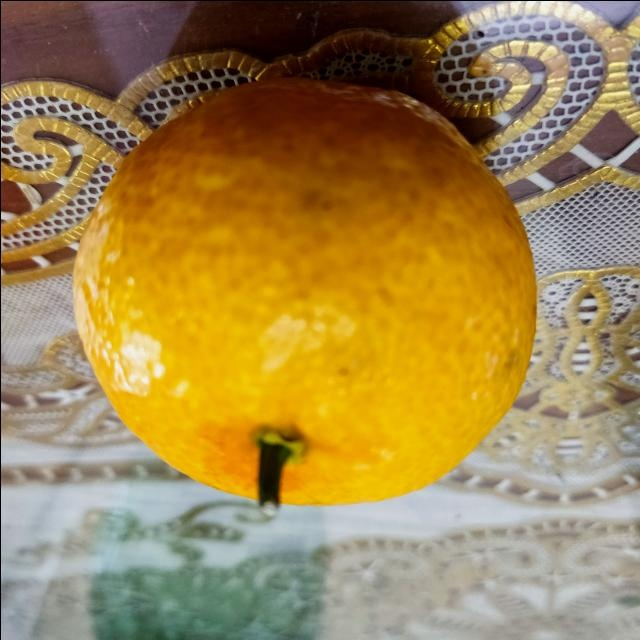agrume: (72, 73, 540, 507)
